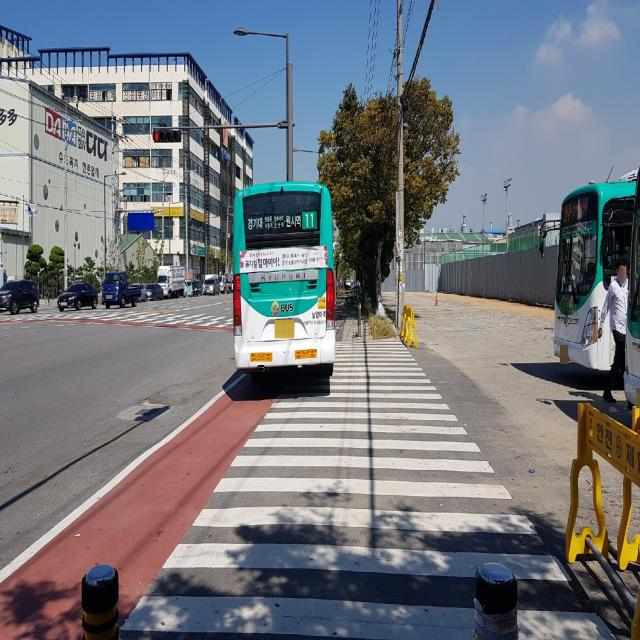횡단보도: (116, 338, 618, 639), (2, 304, 234, 329)
